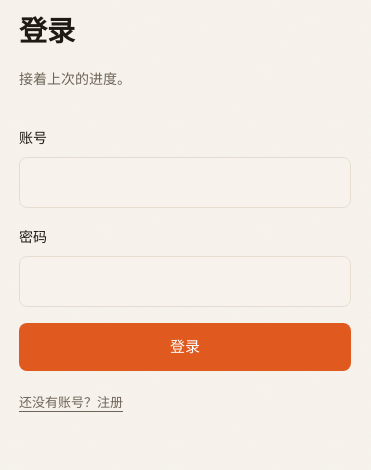
AuthPage › 503 的服务端文案同样原样显示——它是排查线索，不能泛化（契约延续）
Type "tester" into the field labelled "账号".
click(185, 183); type("tester")  # box x1=19 y1=157 x2=351 y2=208
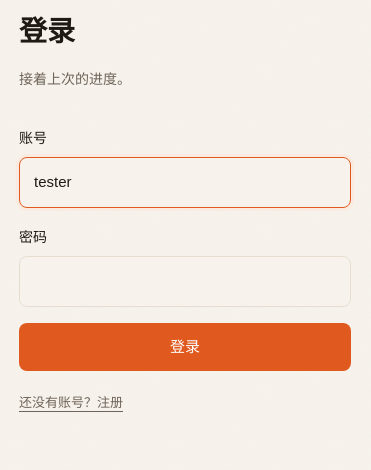
Type "x" into the password field labelled "密码".
click(185, 282); type("x")  # box x1=19 y1=256 x2=351 y2=307
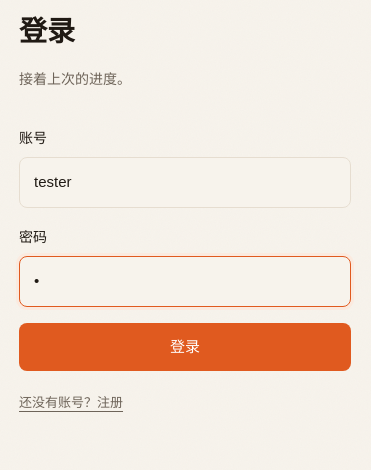
Click the button "登录".
click(185, 347)  # box x1=19 y1=323 x2=351 y2=372
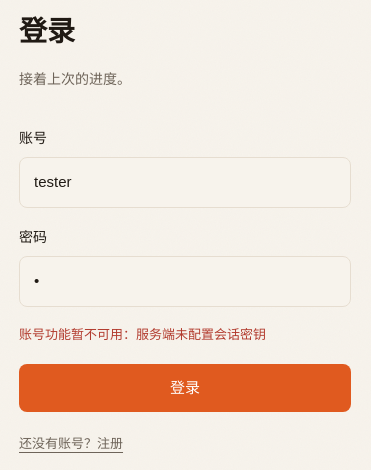
Result: the text "账号功能暂不可用：服务端未配置会话密钥" is shown at x1=19 y1=327 x2=266 y2=342
